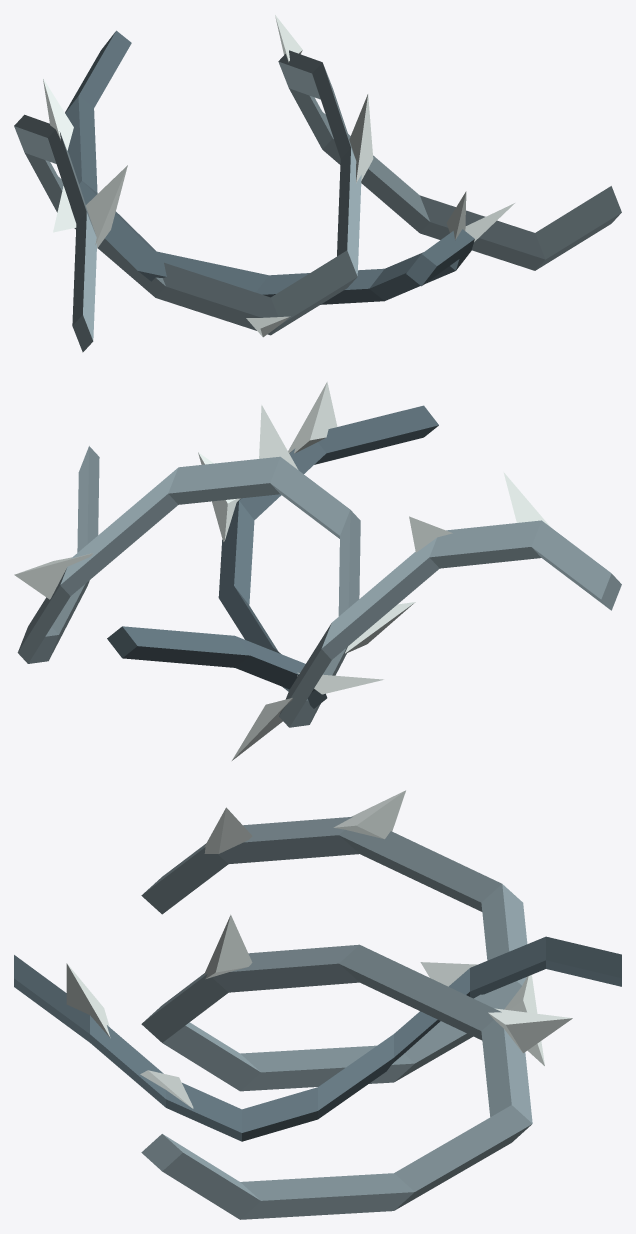
Rendered from blade_wire.obj.
3 renders of one model, top to bottom at view 1: azimuth 30°, elevation 25°; view 2: azimuth 150°, elevation 25°; view 3: azimuth 270°, elevation 25°, orthographic.
Parts seen in each view (by area): view 1: rolled_crown, return_lacing, lancet_outer, lancet_hook, lancet_crown, lancet_return, lancet_cross, lancet_clasp, lancet_heel, lancet_bevel; view 2: rolled_crown, return_lacing, lancet_clasp, lancet_bevel, lancet_inner, lancet_hook, lancet_heel, lancet_outer, lancet_return, lancet_crown, lancet_cross; view 3: rolled_crown, return_lacing, lancet_bevel, lancet_crown, lancet_hook, lancet_clasp, lancet_outer, lancet_inner, lancet_return, lancet_cross.
Part boxes in pixels (box(x1,y1,x2,y2)): rolled_crown: box(14, 50, 621, 352); return_lacing: box(65, 30, 474, 304); lancet_outer: box(85, 165, 127, 248); lancet_hook: box(349, 94, 373, 182); lancet_crown: box(43, 78, 73, 150); lancet_return: box(53, 186, 76, 232); lancet_cross: box(465, 203, 514, 241); lancet_clasp: box(446, 191, 466, 240); lancet_heel: box(246, 316, 290, 337); lancet_bevel: box(275, 15, 302, 62); rolled_crown: box(17, 446, 621, 727); return_lacing: box(107, 405, 438, 708); lancet_clasp: box(288, 382, 337, 453); lancet_bevel: box(14, 553, 93, 599); lancet_inner: box(232, 698, 292, 760); lancet_hook: box(259, 405, 298, 469); lancet_heel: box(345, 602, 415, 653); lancet_outer: box(503, 472, 549, 526); lancet_return: box(297, 672, 383, 694); lancet_crown: box(409, 516, 452, 552); lancet_cross: box(198, 452, 240, 541); rolled_crown: box(141, 816, 532, 1219); return_lacing: box(14, 936, 621, 1141); lancet_bevel: box(488, 1008, 572, 1053); lancet_crown: box(333, 790, 405, 839); lancet_hook: box(204, 914, 252, 979); lancet_clasp: box(66, 963, 110, 1037); lancet_outer: box(204, 807, 252, 853); lancet_inner: box(504, 975, 544, 1065); lancet_return: box(420, 962, 476, 986); lancet_cross: box(140, 1070, 193, 1108).
Size of the model in its own units: 1 by 0.4374 by 1.
